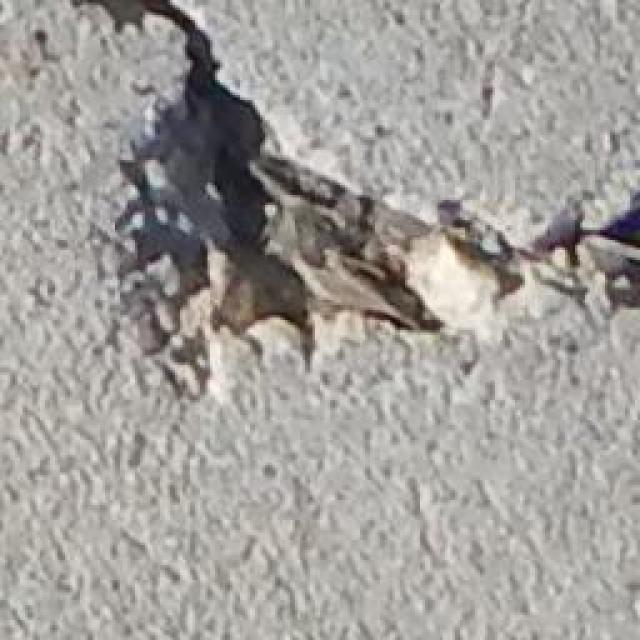concrete-crack: (86, 0, 640, 413)
